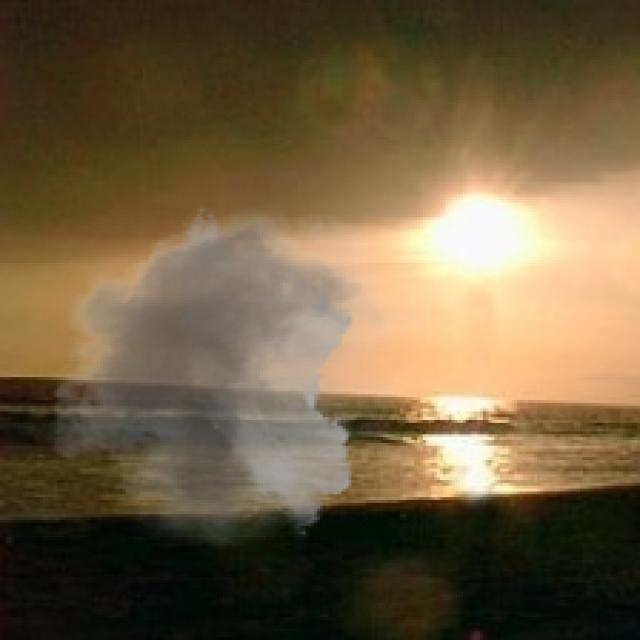Smoke: (32, 194, 434, 549)
